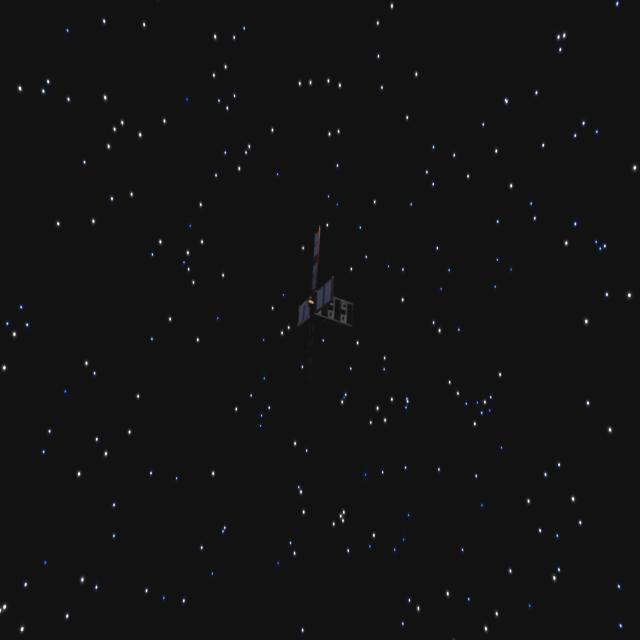satellite: (254, 227, 356, 356)
